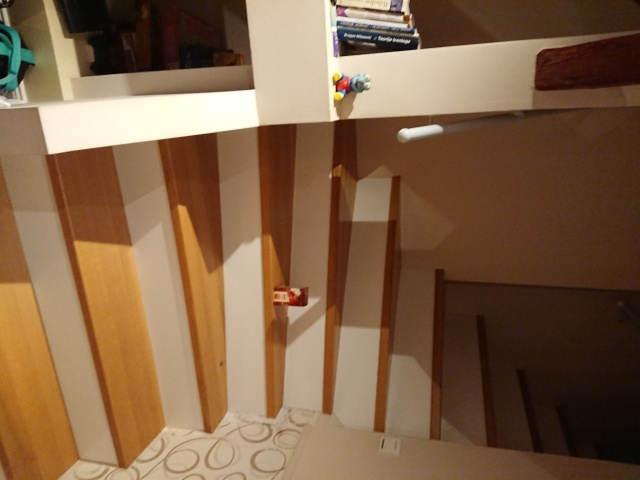Franck Apple Cinnamon Tea 60g: (270, 282, 311, 309)
